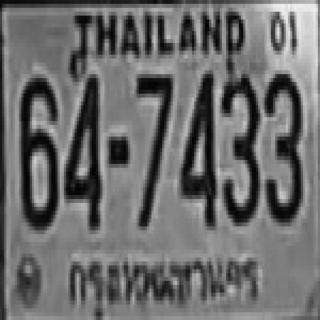N03: (220, 70, 258, 222), (262, 72, 301, 220)
N04: (179, 68, 215, 224), (64, 70, 100, 226)
N06: (19, 74, 55, 226)
N07: (134, 70, 171, 226)
P04: (66, 247, 263, 306)
